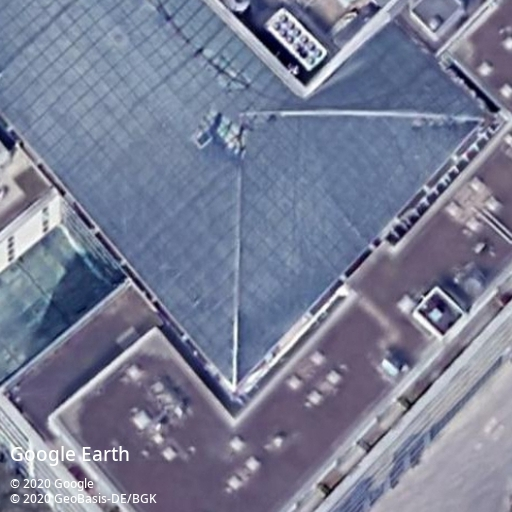Chiller: (264, 7, 328, 71)
